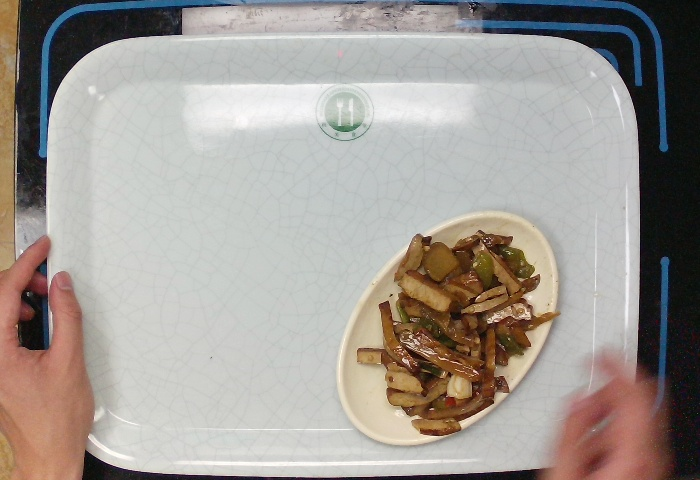JYsf-Tuo_Yuan_Wan: (332, 207, 562, 448)
